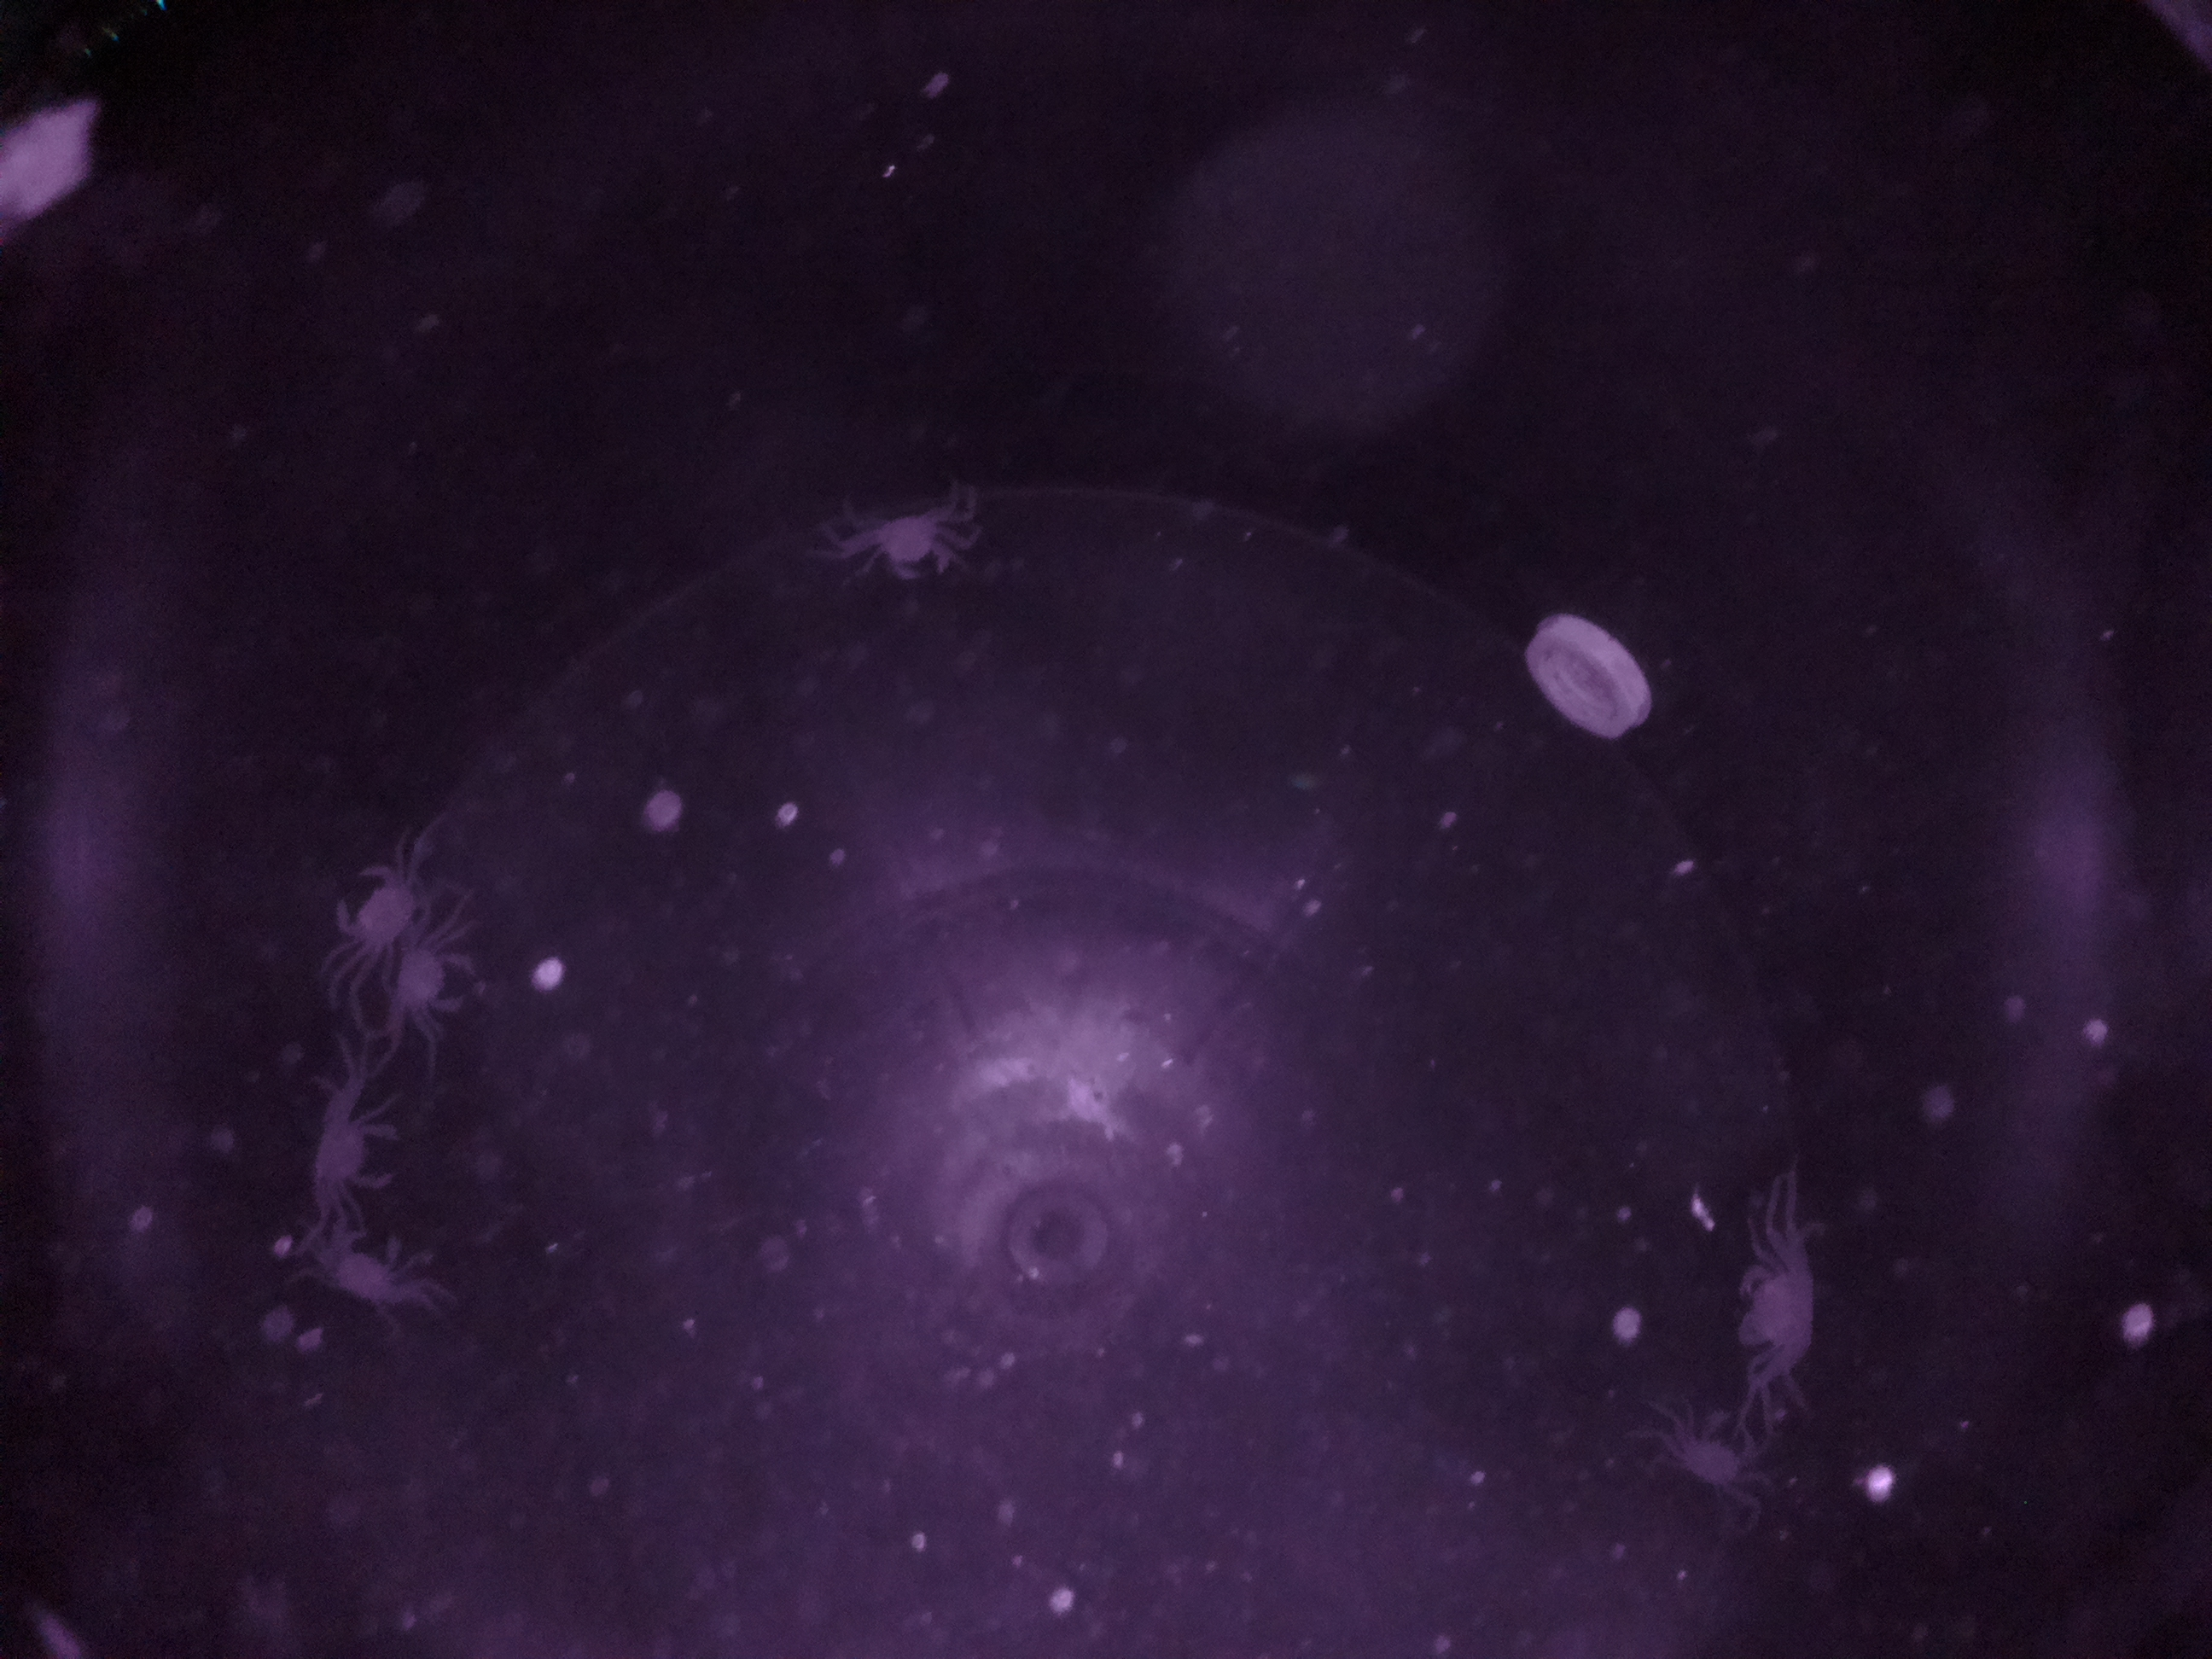Crab: (1712, 1234, 1838, 1382), (369, 913, 489, 1037), (293, 1098, 413, 1215), (860, 491, 965, 589)
